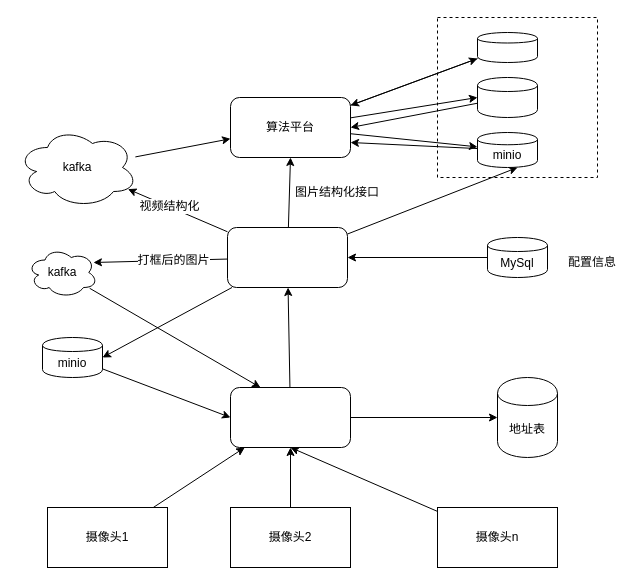
Some shapes in this 635 by 585 pixel diagram are drawn without their labels. Here are the shapes that lost their labels. From the top down, the centre of each, then its label:
At (507,47): "ES".
At (507,97): "Faiss库".
At (287,257): "自研算法".
At (290,417): "视频网关".
